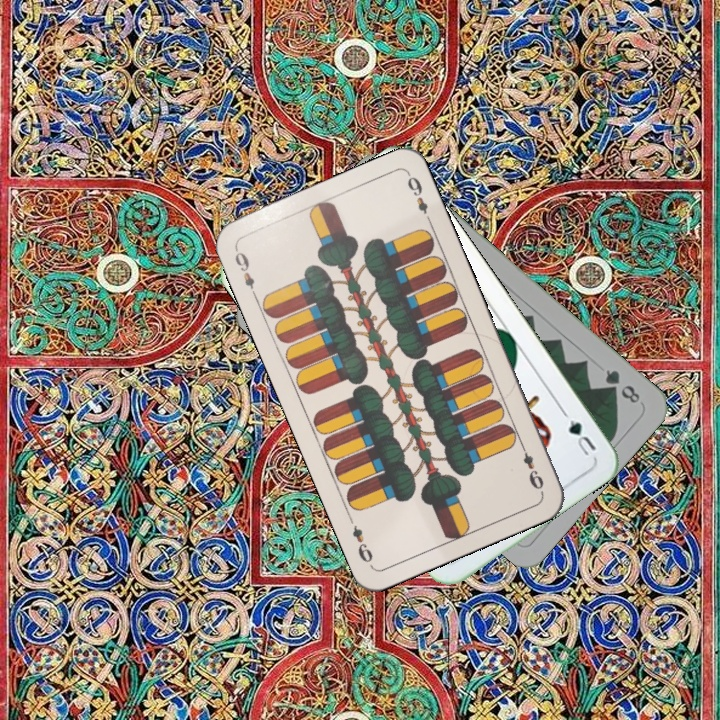E9: (230, 244, 260, 301), (516, 438, 547, 493)
G8: (600, 365, 643, 406)
GU: (564, 415, 599, 459)
